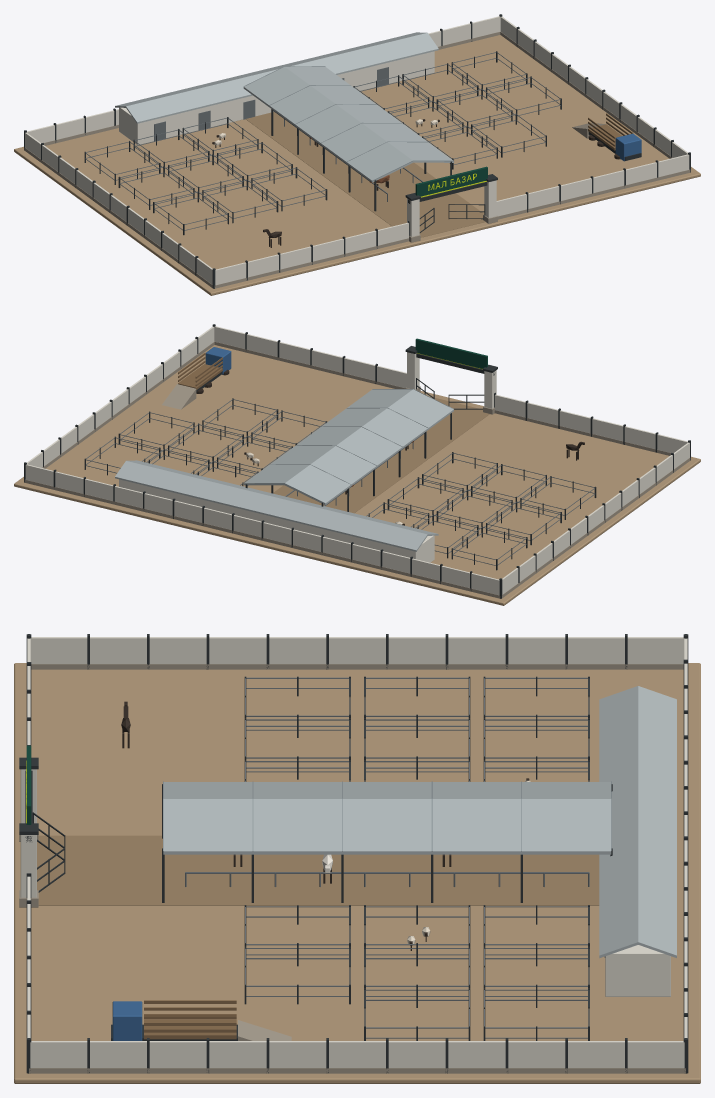
Rendered from mal-bazar.glb.
The picture shows the model from 3 angles, top to bottom: view 1: azimuth 30°, elevation 25°; view 2: azimuth 150°, elevation 25°; view 3: azimuth 270°, elevation 25°; orthographic projection. The views are drawn at different scales.
Visible parts, largest first — view 1: mal-bazar_mal_earth, mal-bazar_mal_wall, mal-bazar_mal_roof, mal-bazar_mal_steel, mal-bazar_mal_earth_dark, mal-bazar_mal_steel_dark, mal-bazar_mal_plinth, mal-bazar_mal_board, mal-bazar_mal_slat, mal-bazar_mal_roof_seam, mal-bazar_mal_truck; view 2: mal-bazar_mal_earth, mal-bazar_mal_wall, mal-bazar_mal_roof, mal-bazar_mal_steel, mal-bazar_mal_steel_dark, mal-bazar_mal_plinth, mal-bazar_mal_earth_dark, mal-bazar_mal_board, mal-bazar_mal_slat, mal-bazar_mal_roof_seam, mal-bazar_mal_truck; view 3: mal-bazar_mal_earth, mal-bazar_mal_roof, mal-bazar_mal_wall, mal-bazar_mal_earth_dark, mal-bazar_mal_steel, mal-bazar_mal_steel_dark, mal-bazar_mal_plinth, mal-bazar_mal_slat, mal-bazar_mal_truck.
Part boxes in pixels (x1,y1,x2,y2): mal-bazar_mal_earth: (14,35,700,295); mal-bazar_mal_wall: (25,16,689,285); mal-bazar_mal_roof: (115,32,453,182); mal-bazar_mal_steel: (85,52,560,230); mal-bazar_mal_earth_dark: (246,112,485,237); mal-bazar_mal_steel_dark: (24,14,690,288); mal-bazar_mal_plinth: (24,31,690,288); mal-bazar_mal_board: (415,166,487,196); mal-bazar_mal_slat: (588,113,633,150); mal-bazar_mal_roof_seam: (244,66,453,180); mal-bazar_mal_truck: (615,133,641,161); mal-bazar_mal_earth: (14,345,700,605); mal-bazar_mal_wall: (25,326,689,595); mal-bazar_mal_roof: (115,389,453,551); mal-bazar_mal_steel: (85,399,594,565); mal-bazar_mal_steel_dark: (24,324,690,598); mal-bazar_mal_plinth: (24,341,690,598); mal-bazar_mal_earth_dark: (273,396,489,513); mal-bazar_mal_board: (415,338,487,368); mal-bazar_mal_slat: (178,353,222,389); mal-bazar_mal_roof_seam: (244,389,453,503); mal-bazar_mal_truck: (205,347,231,374); mal-bazar_mal_earth: (14,663,700,1083); mal-bazar_mal_roof: (163,686,676,958); mal-bazar_mal_wall: (20,637,687,1067); mal-bazar_mal_earth_dark: (37,835,599,905); mal-bazar_mal_steel: (185,677,605,1038); mal-bazar_mal_steel_dark: (19,634,688,1073); mal-bazar_mal_plinth: (19,664,685,1073); mal-bazar_mal_slat: (144,1000,236,1039); mal-bazar_mal_truck: (112,1001,142,1040).
Bounding box in the file's own units: 66 × 7.43 × 46.
